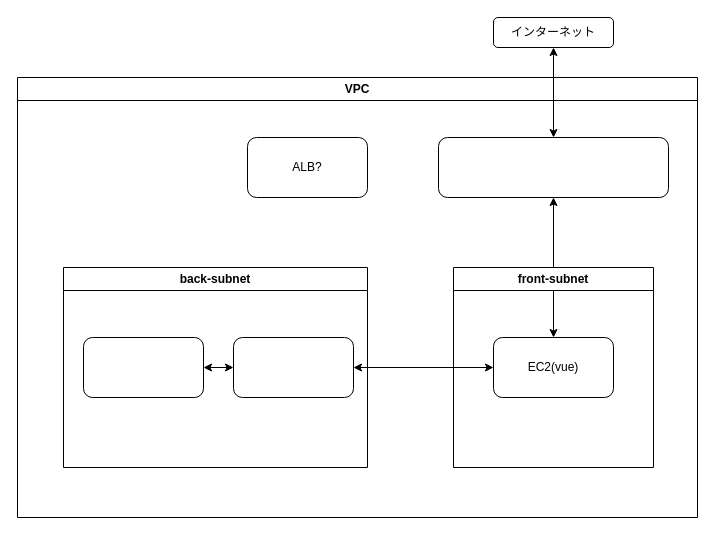
This 715x535 diagram has some shape labels left out. The centre of each missing label's shape, as x and y in pixels:
"EC2(laravel)" goes at point (293, 367).
"RDS(mariadb)" goes at point (143, 367).
"インターネットゲートウェイ" goes at point (553, 167).
